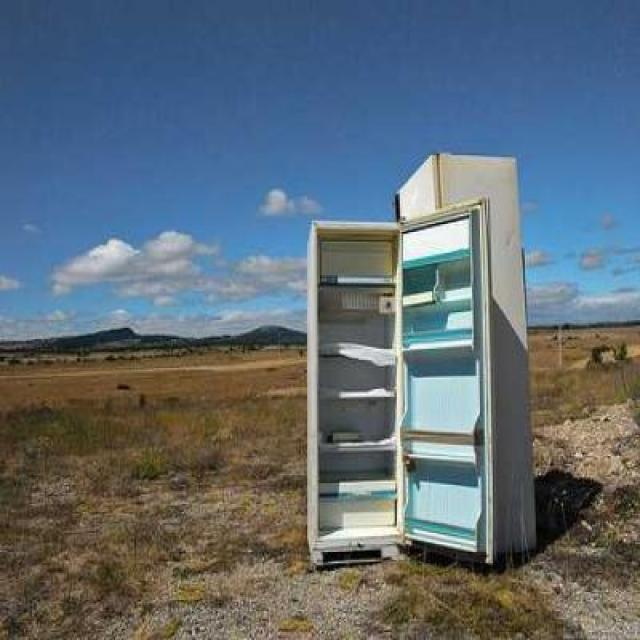refrigerator: (312, 218, 472, 545)
